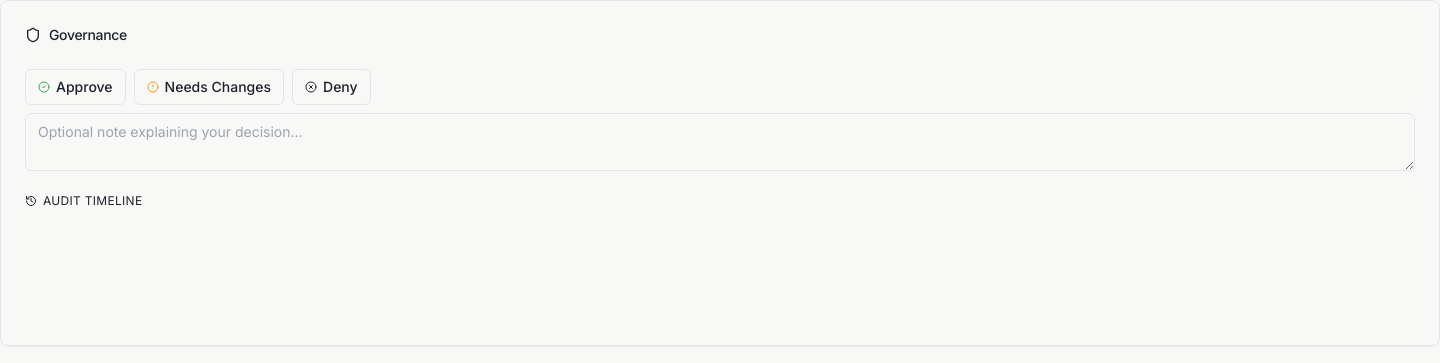
Scenario: GovernancePanel › disables buttons while mutation is pending
The width and height of the screenshot is (1440, 363).
Click the button with test id "gov-approve". click: (75, 87)
box: [25,69,126,105]
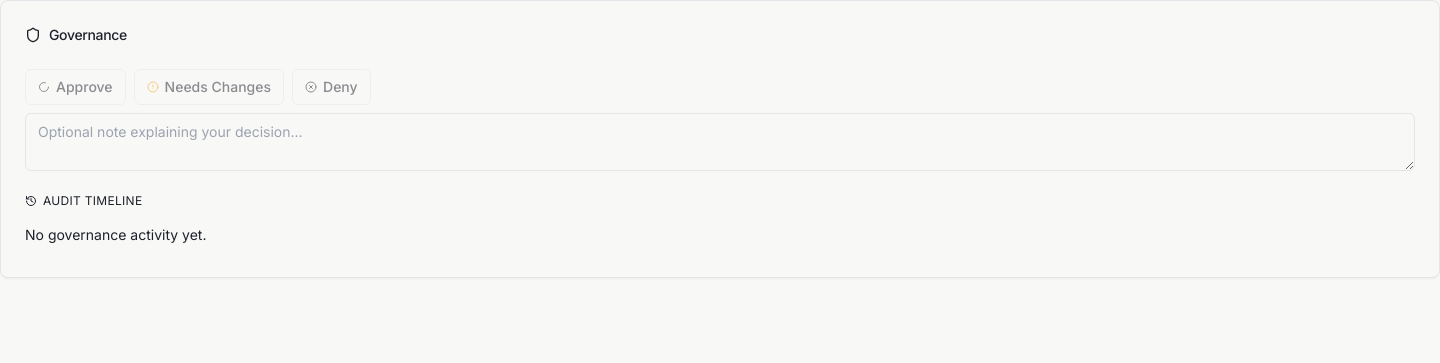
Result: the button with test id "gov-approve" is disabled at [25,69,126,105]
Result: the button with test id "gov-deny" is disabled at [292,69,371,105]
